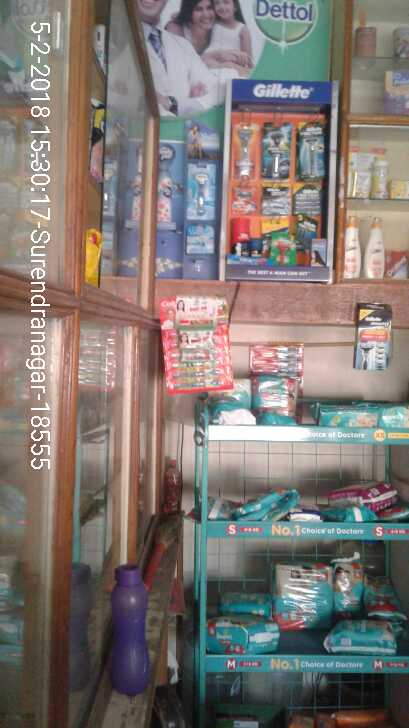beauty: (349, 300, 389, 370), (182, 158, 220, 223), (260, 114, 295, 183), (297, 121, 329, 181), (232, 114, 260, 178), (261, 180, 291, 219), (229, 215, 252, 259), (289, 184, 322, 214), (228, 178, 252, 217)
pharmacy: (271, 556, 332, 632), (198, 614, 287, 663), (244, 375, 307, 419), (331, 617, 392, 656), (317, 398, 378, 432)
